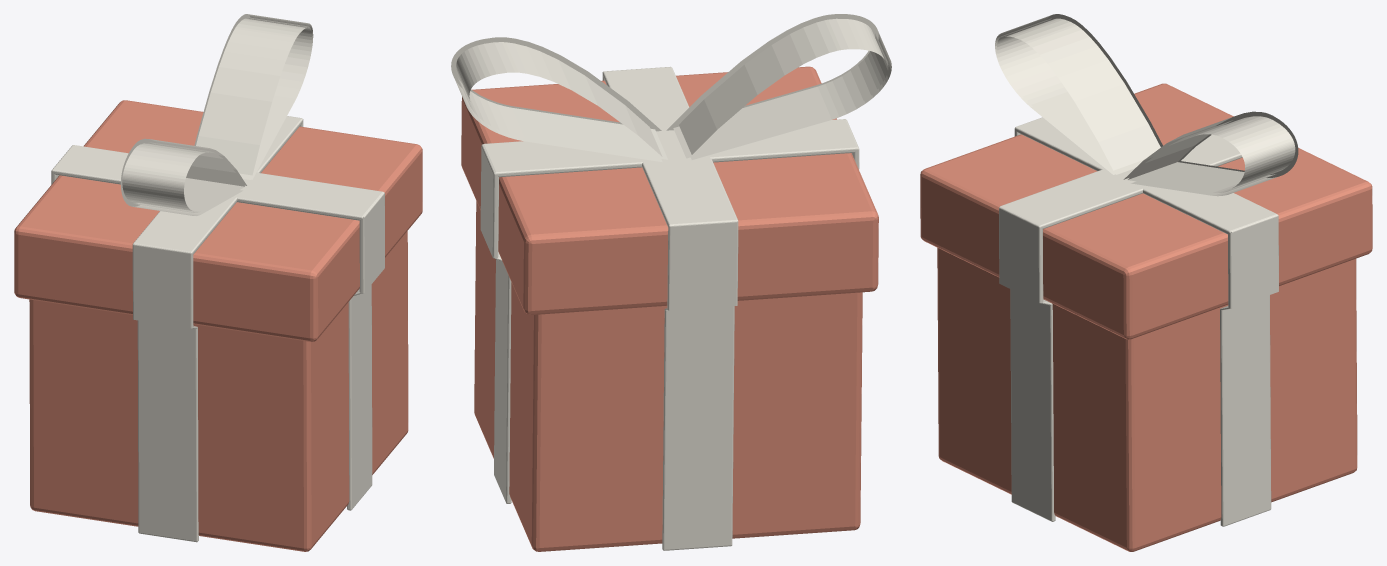
File: gift_1.glb
3 renders of one model, left to right at view 1: azimuth 30°, elevation 25°; view 2: azimuth 150°, elevation 25°; view 3: azimuth 270°, elevation 25°, orthographic. The views are drawn at different scales.
Parts seen in each view (by area): view 1: Doos, Deksel, Side (×2), Extrude.3, Up (×2); view 2: Doos, Deksel, Extrude.3, Side (×2), Up (×2); view 3: Doos, Deksel, Side (×2), Extrude.3, Up (×2).
Part boxes in pixels (x1,y1,x2,y2): Doos: [29, 231, 408, 551]; Deksel: [14, 100, 422, 341]; Side (×2): [51, 116, 384, 542]; Extrude.3: [120, 14, 313, 215]; Up (×2): [51, 116, 382, 254]; Doos: [474, 201, 862, 551]; Deksel: [461, 66, 878, 314]; Extrude.3: [451, 14, 891, 162]; Side (×2): [480, 66, 859, 550]; Up (×2): [483, 67, 858, 227]; Doos: [937, 248, 1357, 551]; Deksel: [920, 83, 1372, 339]; Side (×2): [999, 128, 1278, 526]; Extrude.3: [995, 14, 1298, 196]; Up (×2): [1000, 117, 1276, 234].
Bounding box in the file's own units: 1.5 × 1.45 × 1.5.
